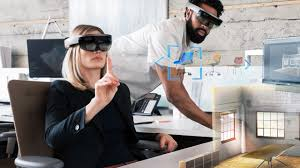hololens: (61, 33, 113, 57), (184, 1, 224, 29)
